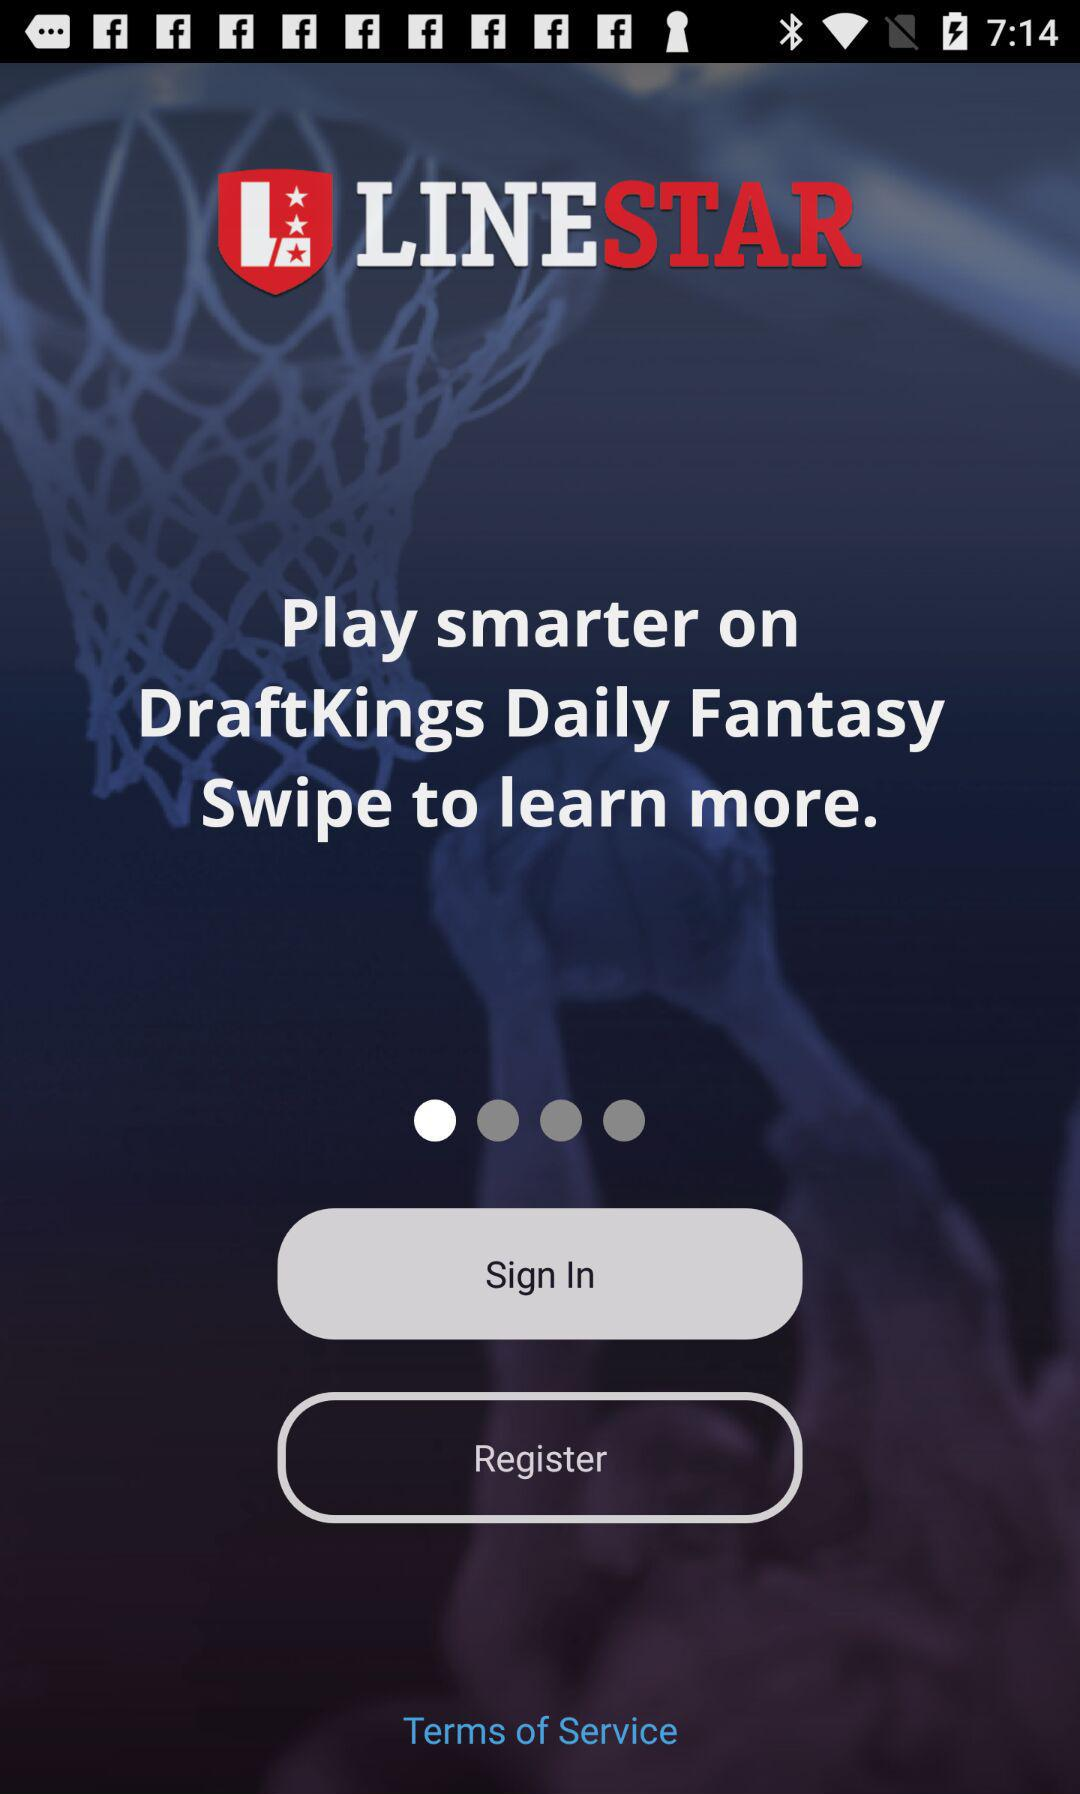BackgroundImage: (1, 64, 1080, 1794)
Image: (217, 168, 863, 297)
PageIndicator: (413, 1097, 647, 1146)
Text: (140, 595, 945, 844), (402, 1715, 679, 1747)
TextButton: (277, 1208, 805, 1340), (277, 1392, 805, 1524)
UpperTaskBar: (1, 1, 1080, 64)
